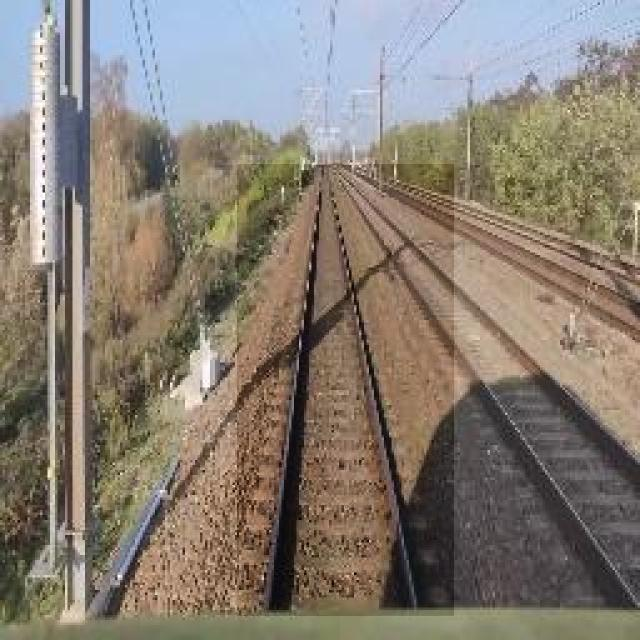rail: (238, 166, 455, 617)
